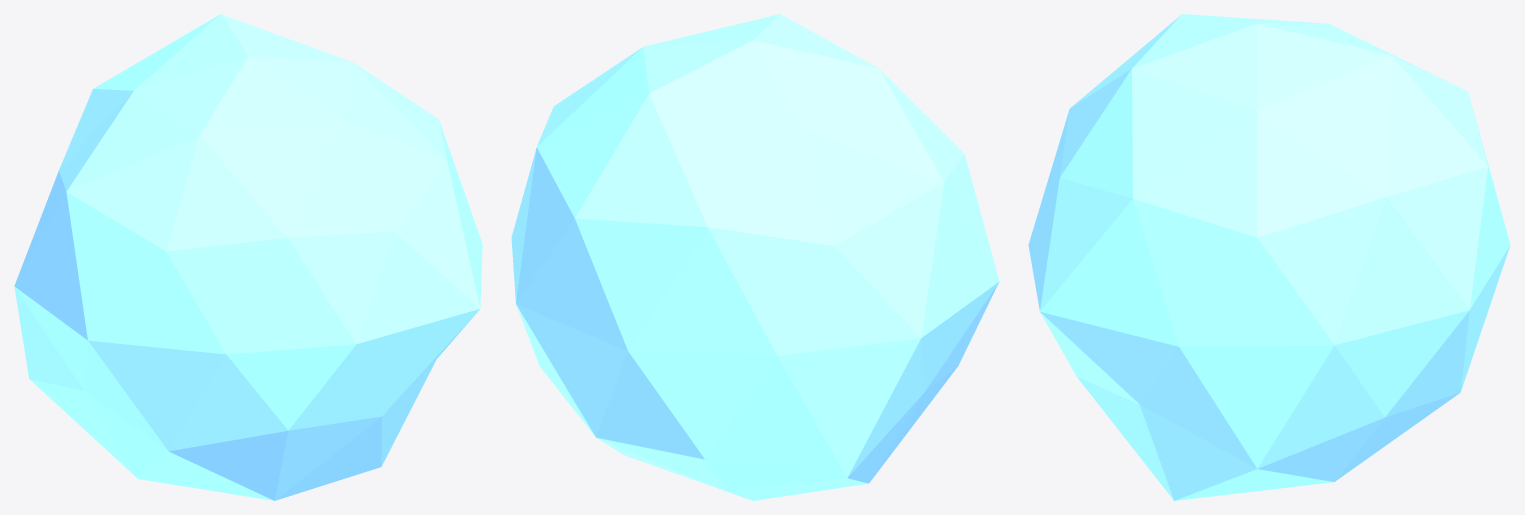
File: hoard_pulsar_core.glb
3 renders of one model, left to right at view 1: azimuth 30°, elevation 25°; view 2: azimuth 150°, elevation 25°; view 3: azimuth 270°, elevation 25°, orthographic. The views are drawn at different scales.
Visible parts, largest first — view 1: CoreEnergy; view 2: CoreEnergy; view 3: CoreEnergy.
Boxes of the visible parts, bbox=[...] form: CoreEnergy: bbox=[14, 14, 482, 500]; CoreEnergy: bbox=[511, 14, 999, 500]; CoreEnergy: bbox=[1028, 14, 1510, 500].
Size of the model in its own units: 0.8612 by 0.9156 by 0.8593.
